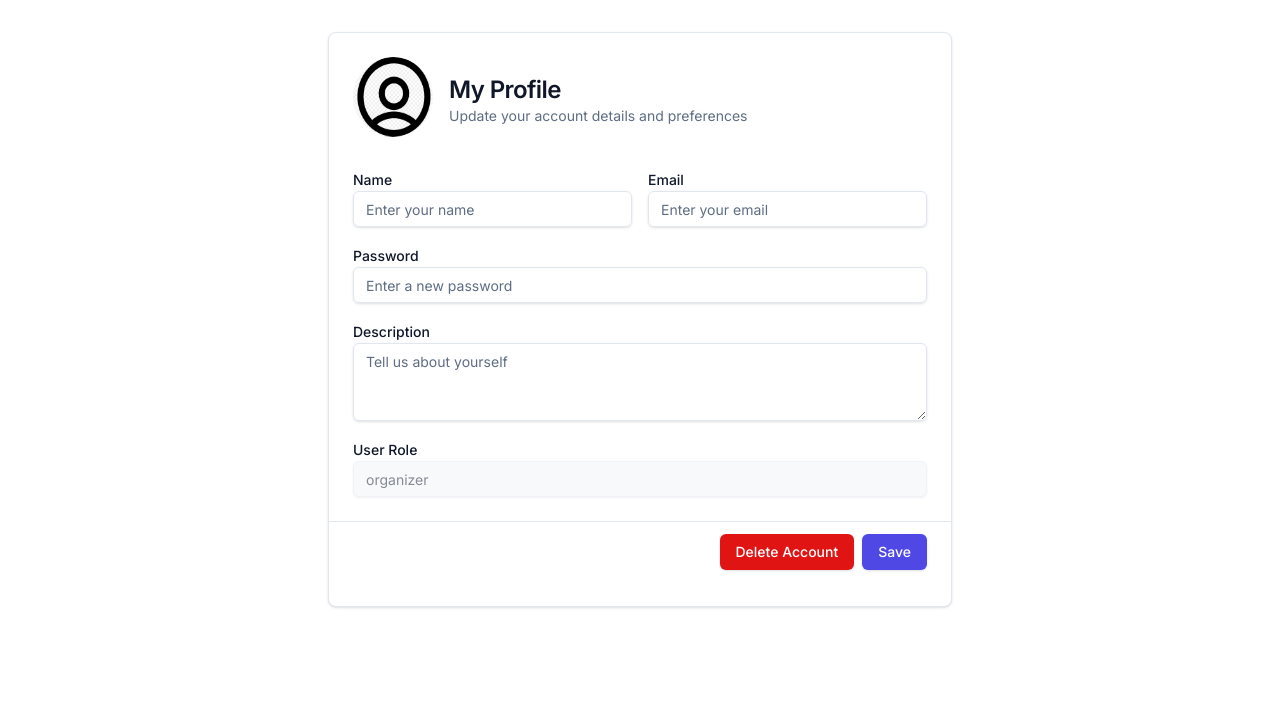
Test: OrganizerProfile › opens avatar upload dialog
The width and height of the screenshot is (1280, 720).
Click the button named "Change avatar" at (393, 97), box [353,57,433,137]
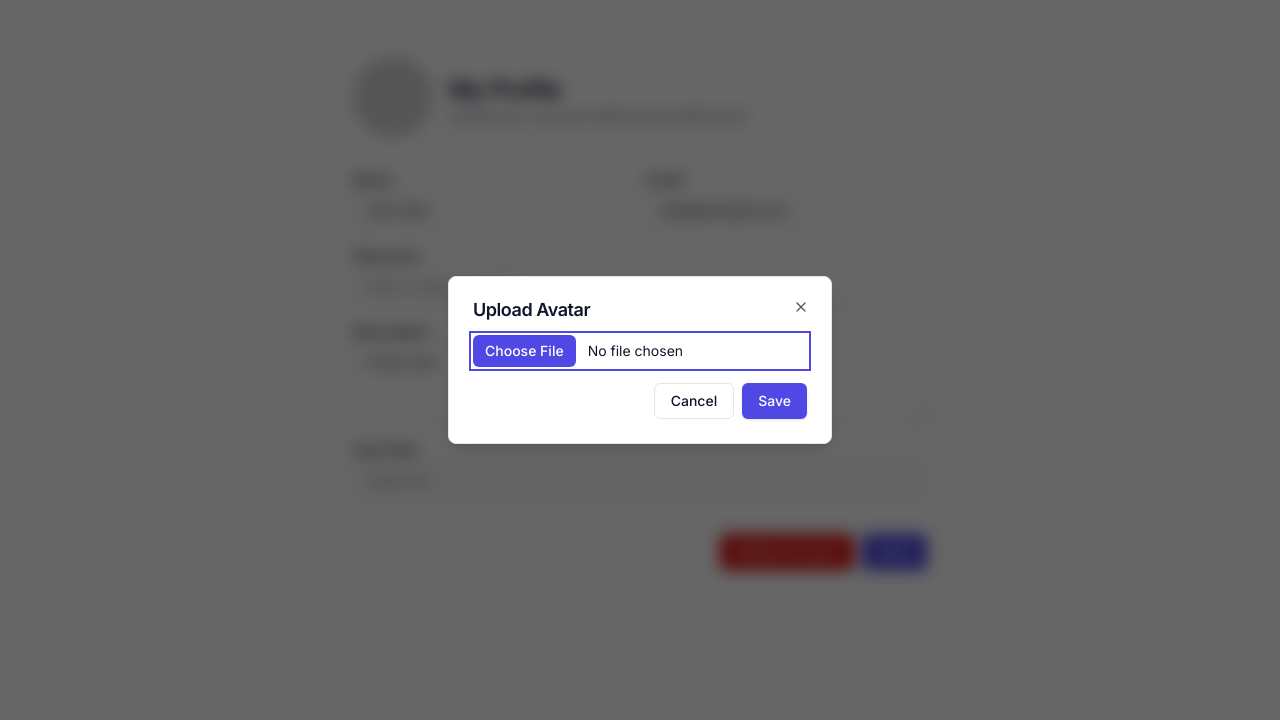
Now the heading "Upload Avatar" is shown, box [473,299,590,320]
